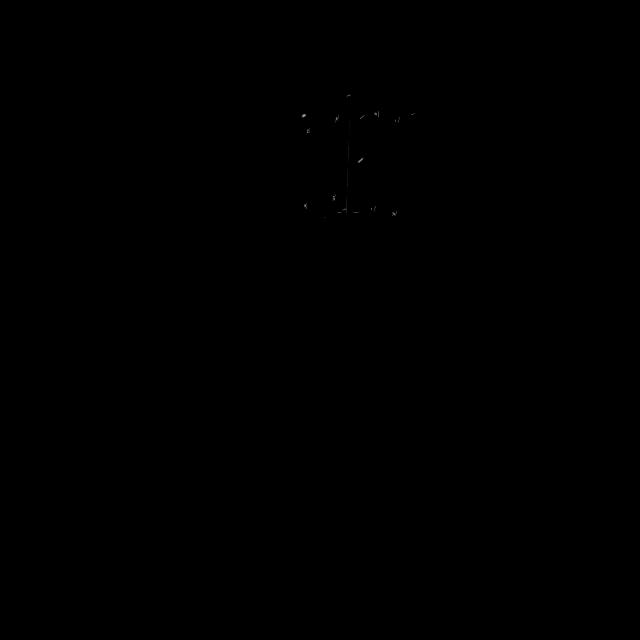satellite: (274, 70, 430, 250)
